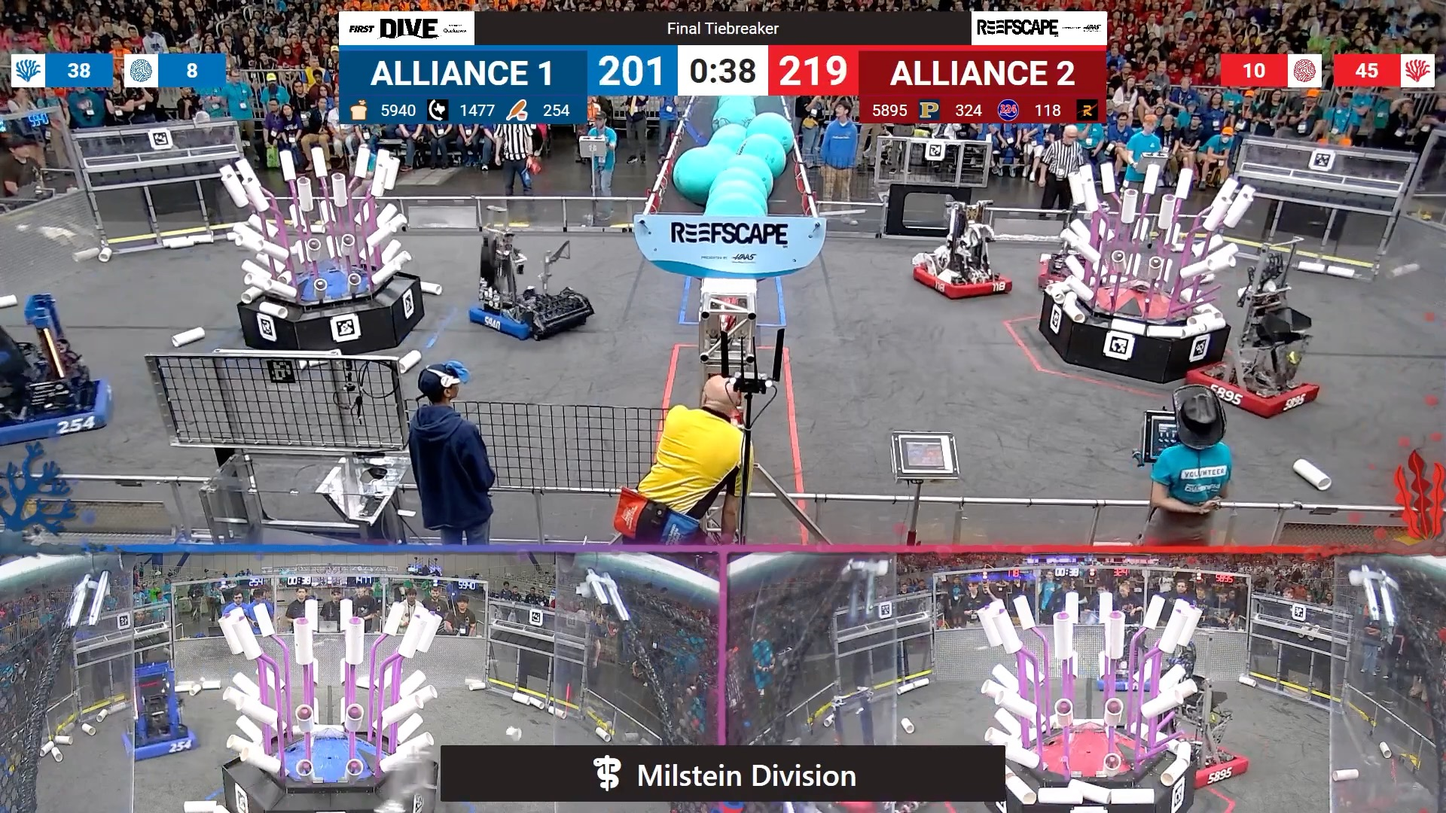bumpers: (1187, 362, 1330, 424), (0, 373, 117, 448), (461, 292, 589, 345), (904, 260, 1014, 306), (122, 719, 205, 766), (1173, 741, 1252, 789)
